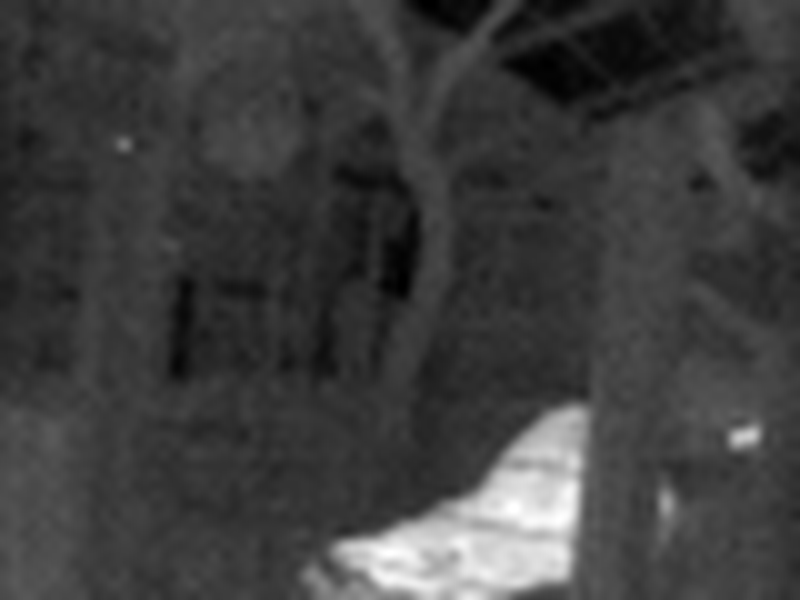elephant: (294, 404, 654, 600)
